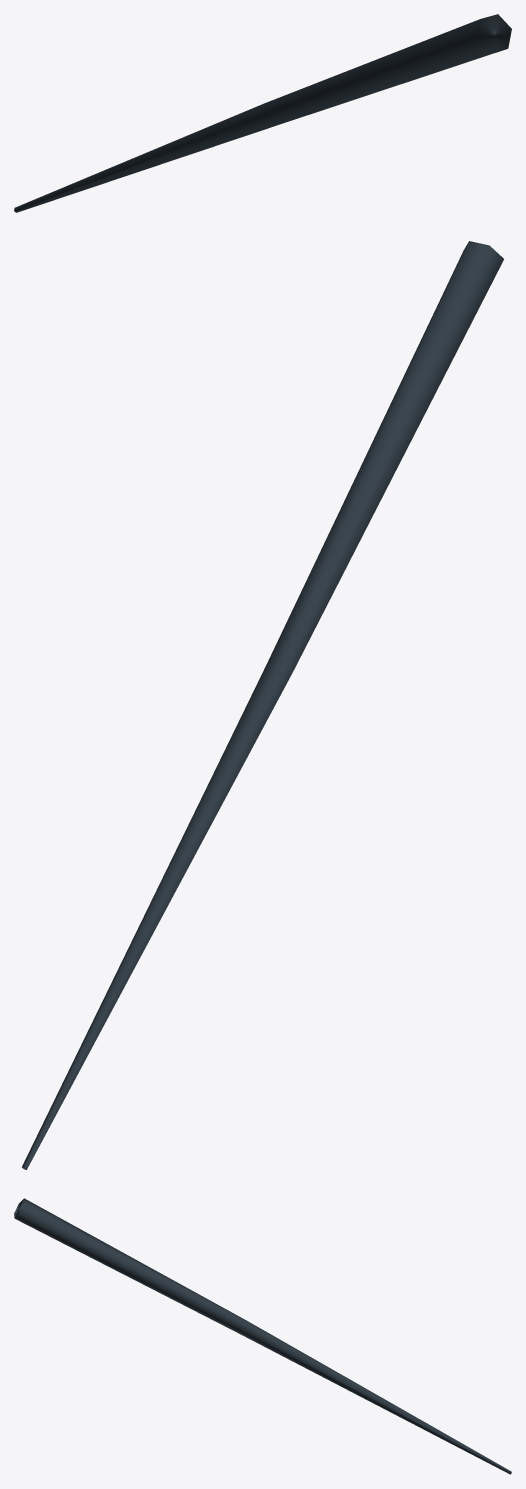
Rendered from L_Wing_Finger_4.obj.
3 views of the same model, one above another, from view 1: azimuth 30°, elevation 25°; view 2: azimuth 150°, elevation 25°; view 3: azimuth 270°, elevation 25° (orthographic). The views are drawn at different scales.
Parts seen in each view (by area): view 1: L_Wing_Finger_4; view 2: L_Wing_Finger_4; view 3: L_Wing_Finger_4.
Part boxes in pixels (x1,y1,x2,y2): L_Wing_Finger_4: (14,14,511,212); L_Wing_Finger_4: (22,241,503,1169); L_Wing_Finger_4: (14,1198,511,1474).
Size of the model in its own units: 0.3059 by 2.99 by 4.8.
